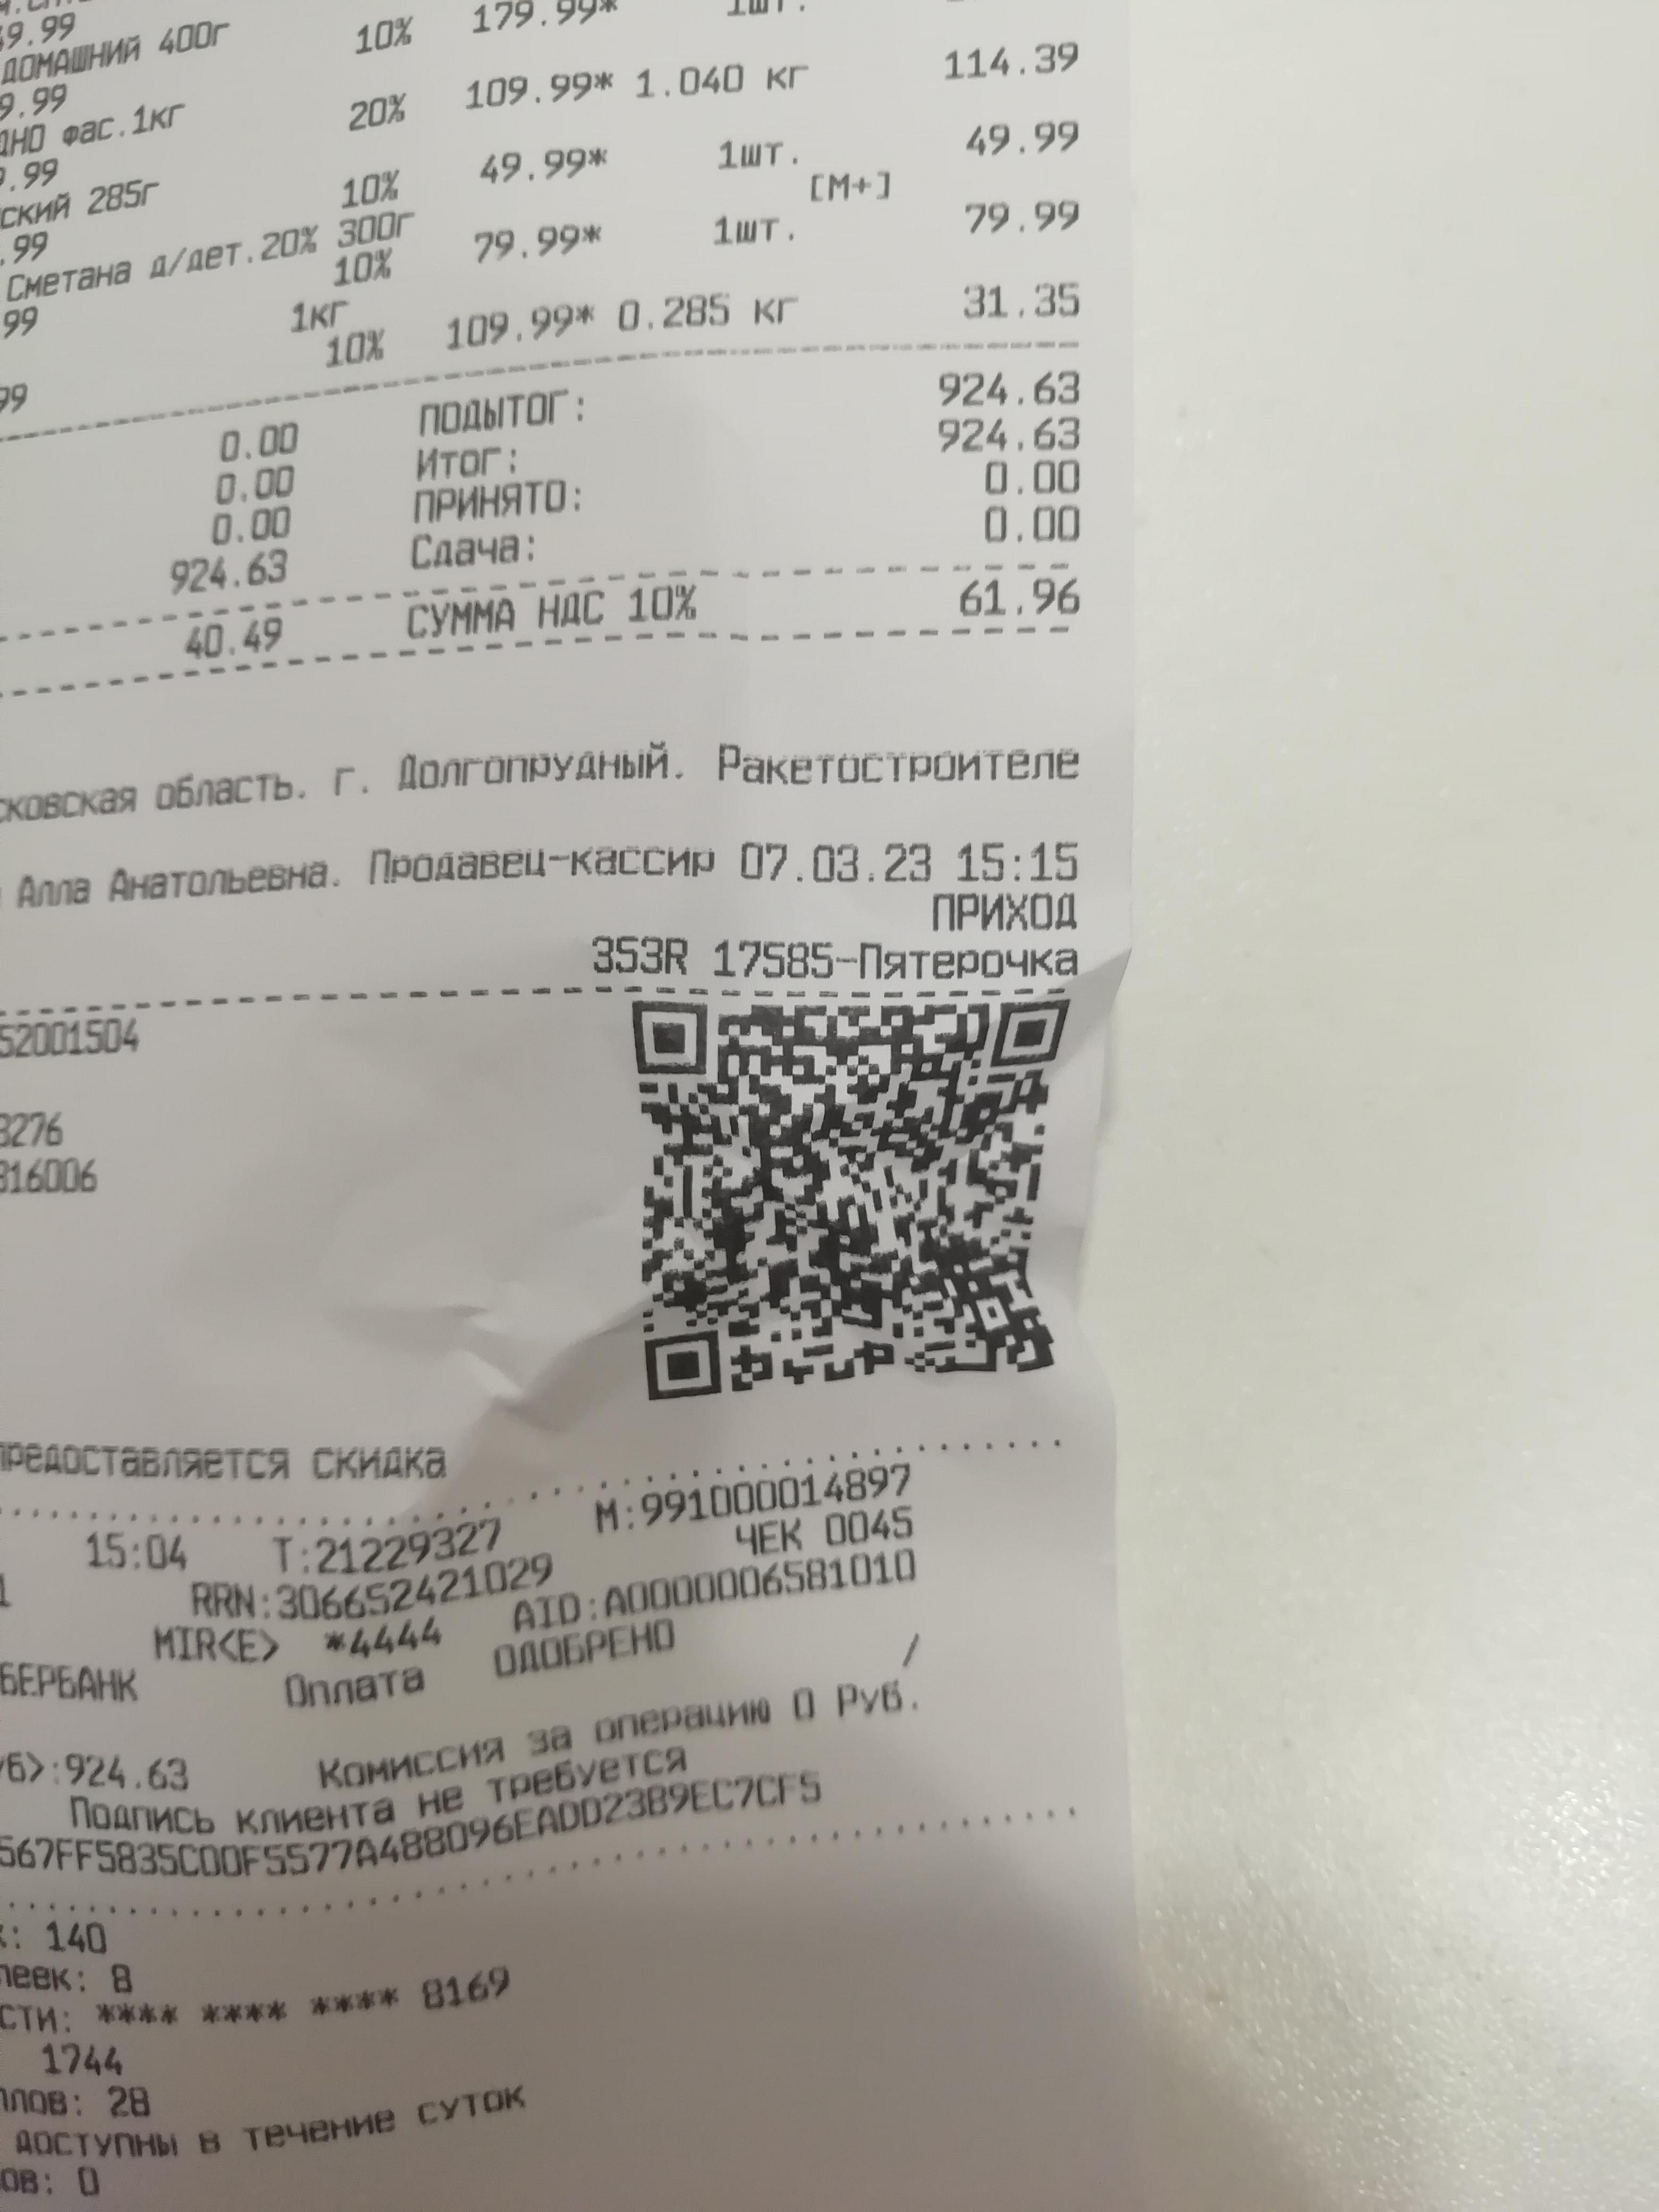qrcode: (627, 995, 1072, 1402)
